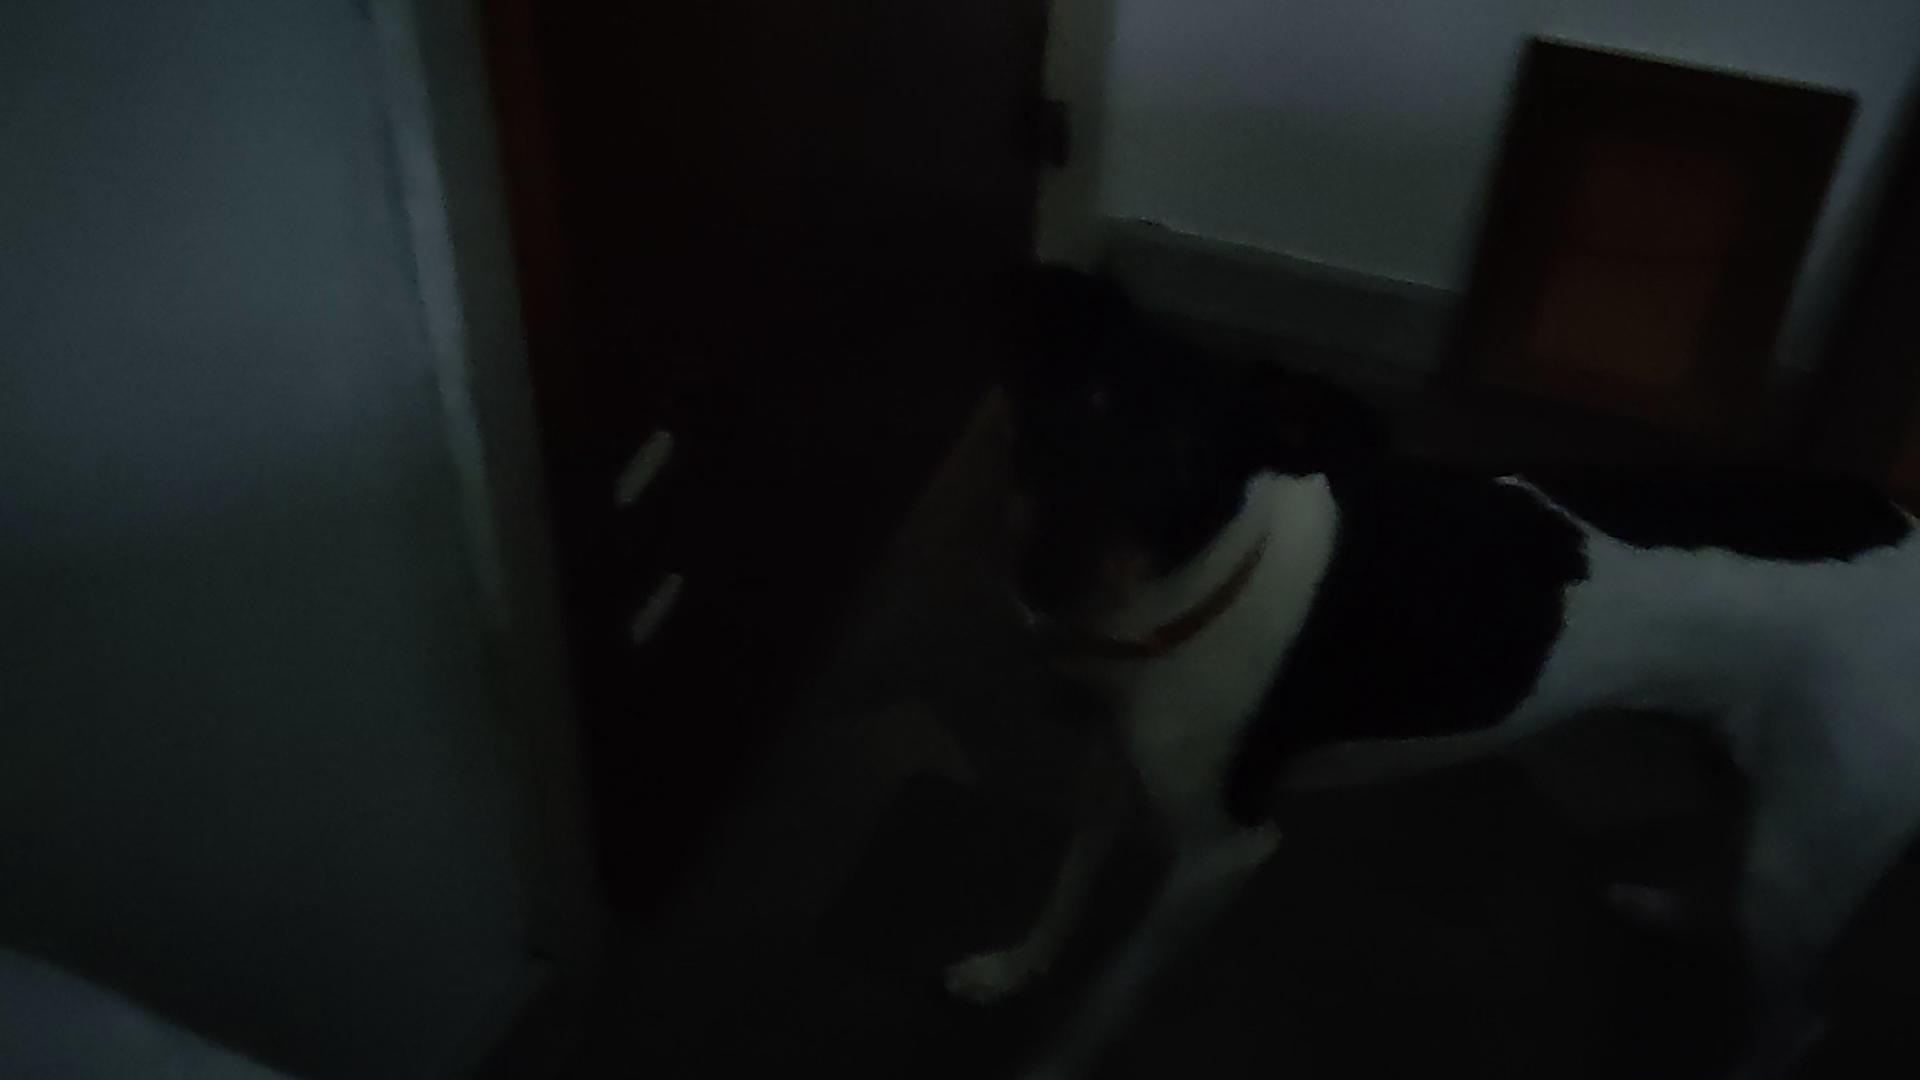Dog: (926, 247, 1919, 1079)
